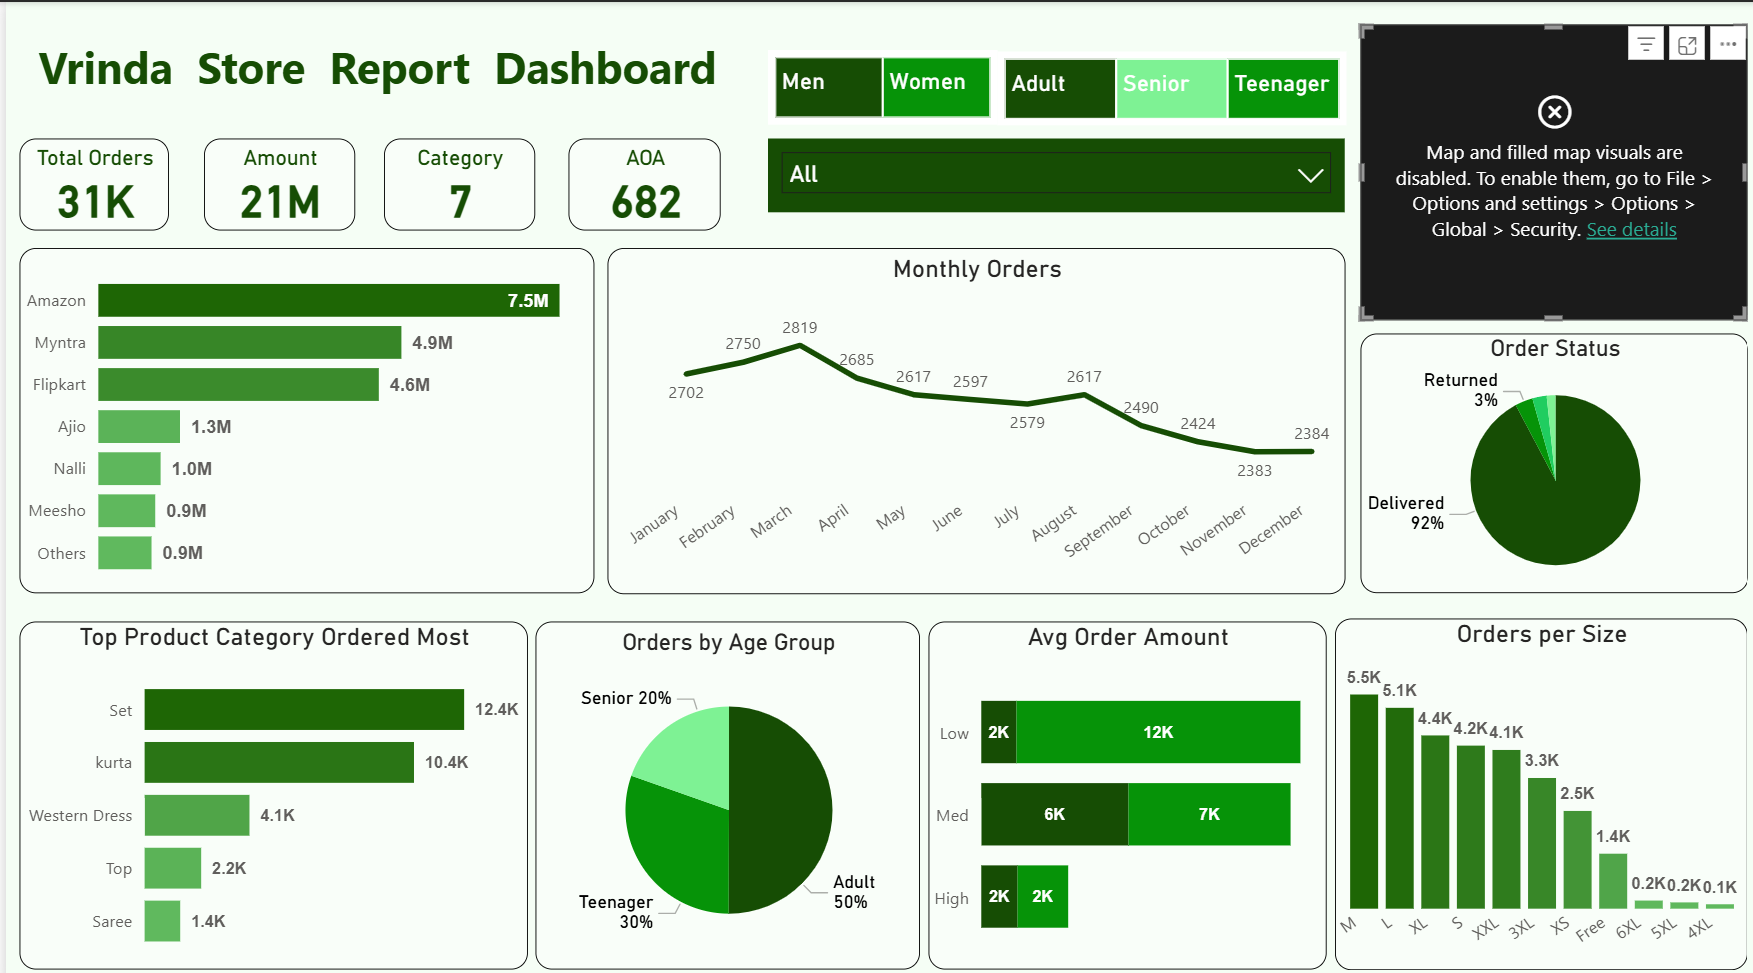

The dashboard page shown, as its layout file describes it:
{"tool":"powerbi","page":{"name":"varinda_Store_report","canvas":[1280,720],"ordinal":0},"visuals":[{"type":"card","title":"Total Orders","fields":{"Values":["CountNonNull(Vrinda Store.Order ID)"]},"box":[10,100,109.4,67],"z":0,"group":"g1"},{"type":"clusteredBarChart","fields":{"Category":["Vrinda Store.Channel "],"Y":["Sum(Vrinda Store.Amount)"]},"box":[9.7,180,420.5,252.5],"z":0},{"type":"card","title":"Amount","fields":{"Values":["Sum(Vrinda Store.Amount)"]},"box":[144.5,100,110.4,67],"z":1000,"group":"g1"},{"type":"pieChart","title":"Orders by Age Group","fields":{"Category":["Vrinda Store.Age Group"],"Y":["CountNonNull(Vrinda Store.Order ID)"]},"box":[387.9,453.1,281.5,255],"z":1000},{"type":"card","title":"Category","fields":{"Values":["Count(Vrinda Store.Channel )"]},"box":[277,100,110.4,67],"z":2000,"group":"g1"},{"type":"columnChart","title":"Orders per Size","fields":{"Category":["Vrinda Store.Size"],"Y":["CountNonNull(Vrinda Store.Order ID)"]},"box":[972.7,450.7,302.1,257.4],"z":2000},{"type":"card","title":"AOA","fields":{"Values":["Avg(Vrinda Store.Amount)"]},"box":[411.6,100,111.4,67],"z":3000,"group":"g1"},{"type":"barChart","title":"Top Product Category Ordered Most","fields":{"Y":["CountNonNull(Vrinda Store.Order ID)"],"Category":["Vrinda Store.Category"]},"box":[9.7,453.1,372.2,255],"z":3000},{"type":"barChart","title":"Avg Order Amount","fields":{"Category":["Vrinda Store.Order_Amt"],"Y":["CountNonNull(Vrinda Store.Order ID)"],"Series":["Vrinda Store.Gender"]},"box":[675.4,453.1,291.2,255],"z":4000},{"type":"lineChart","title":"Monthly Orders","fields":{"Y":["CountNonNull(Vrinda Store.Order ID)"],"Category":["Vrinda Store.Date.Variation.Date Hierarchy.Month"]},"box":[440,180,540,253],"z":5000},{"type":"group","id":"g1","title":"Group 1","box":[10,100,513,67],"z":6000},{"type":"map","fields":{"Category":["Vrinda Store.ship-state"],"Size":["CountNonNull(Vrinda Store.Order ID)"]},"box":[990.8,16.9,284,216.3],"z":7000},{"type":"textbox","box":[10,22.2,540,51.1],"z":8000},{"type":"slicer","fields":{"Values":["Vrinda Store.Date.Variation.Date Hierarchy.Month"]},"box":[558,100,422,54],"z":9000},{"type":"treemap","fields":{"Group":["Vrinda Store.Gender"],"Values":["Count(Vrinda Store.Gender)"]},"box":[557.8,35.6,167.8,54.4],"z":10000},{"type":"treemap","fields":{"Group":["Vrinda Store.Age Group"],"Values":["Count(Vrinda Store.Age Group)"]},"box":[725,36,255,54],"z":11000},{"type":"pieChart","title":"Order Status","fields":{"Category":["Vrinda Store.Status"],"Y":["CountNonNull(Vrinda Store.Order ID)"]},"box":[990.8,242.9,284,189.7],"z":12000}]}

Visuals, with their boxes in screenshot pixels (x1, y1, x2, y2), scaled from the page's 1280x720 canvas onto the 1753x973 screenshot:
"Total Orders" card: 14 135 164 226
clusteredBarChart - Vrinda Store.Channel  x Sum(Vrinda Store.Amount): 13 243 589 584
"Amount" card: 198 135 349 226
"Orders by Age Group" pieChart: 531 612 917 957
"Category" card: 379 135 531 226
"Orders per Size" columnChart: 1332 609 1746 957
"AOA" card: 564 135 716 226
"Top Product Category Ordered Most" barChart: 13 612 523 957
"Avg Order Amount" barChart: 925 612 1324 957
"Monthly Orders" lineChart: 603 243 1342 585
"Group 1" group: 14 135 716 226
map - Vrinda Store.ship-state x CountNonNull(Vrinda Store.Order ID): 1357 23 1746 315
textbox: 14 30 753 99
slicer - Vrinda Store.Date.Variation.Date Hierarchy.Month: 764 135 1342 208
treemap - Vrinda Store.Gender x Count(Vrinda Store.Gender): 764 48 994 122
treemap - Vrinda Store.Age Group x Count(Vrinda Store.Age Group): 993 49 1342 122
"Order Status" pieChart: 1357 328 1746 585
